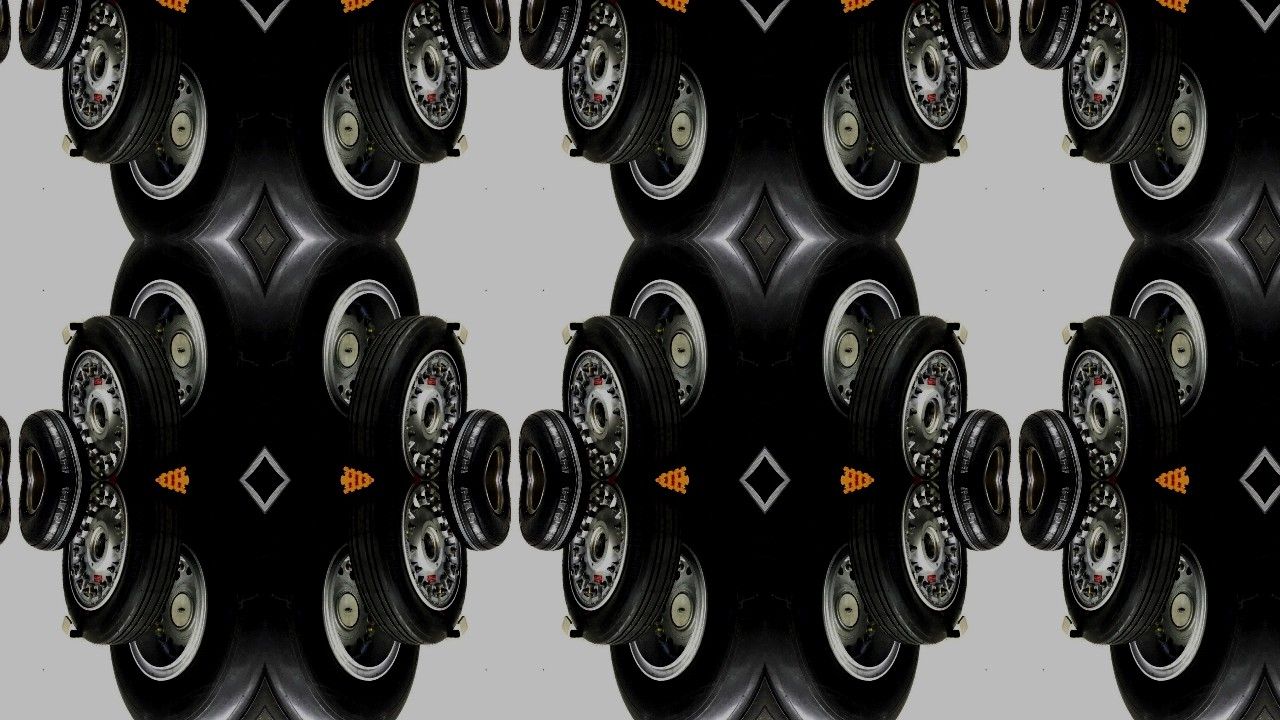chock: (224, 480, 265, 541), (724, 480, 765, 541), (765, 480, 806, 541), (1225, 480, 1266, 541), (224, 420, 265, 480), (724, 420, 765, 480), (765, 420, 806, 480), (1225, 420, 1266, 480), (265, 480, 305, 541), (224, 0, 265, 59), (724, 0, 765, 59), (765, 0, 806, 59), (1225, 0, 1266, 59), (265, 420, 305, 480), (265, 0, 305, 59), (128, 465, 208, 480), (321, 465, 401, 480), (628, 465, 708, 480), (822, 465, 902, 480), (1129, 465, 1209, 480), (128, 480, 208, 495), (321, 480, 401, 495), (628, 480, 708, 495), (822, 480, 902, 495), (1129, 480, 1209, 495), (128, 0, 208, 14), (321, 0, 401, 14), (628, 0, 708, 14), (822, 0, 902, 14), (1129, 0, 1209, 14), (1266, 480, 1280, 541), (1266, 420, 1280, 480), (1266, 0, 1280, 59)
wheel: (264, 239, 429, 480), (1101, 239, 1266, 480), (264, 480, 429, 720), (1101, 480, 1266, 720), (100, 239, 264, 480), (601, 239, 765, 480), (765, 239, 929, 480), (264, 0, 429, 239), (1101, 0, 1266, 239), (100, 480, 264, 720), (601, 480, 765, 720), (765, 480, 929, 720), (100, 0, 264, 239), (601, 0, 765, 239), (765, 0, 929, 239), (556, 480, 686, 649), (844, 480, 974, 649), (556, 312, 686, 480), (844, 312, 974, 480), (56, 480, 185, 649), (344, 480, 473, 649), (1057, 480, 1186, 649), (556, 0, 686, 167), (844, 0, 974, 167), (56, 312, 185, 480), (344, 312, 473, 480), (1057, 312, 1186, 480), (56, 0, 185, 167), (344, 0, 473, 167), (1057, 0, 1186, 167), (14, 480, 96, 554), (433, 480, 515, 554), (1015, 480, 1097, 554), (515, 480, 596, 554), (934, 480, 1015, 554), (14, 407, 96, 480), (433, 407, 515, 480), (1015, 407, 1097, 480), (515, 407, 596, 480), (934, 407, 1015, 480), (14, 0, 96, 72), (433, 0, 515, 72), (1015, 0, 1097, 72), (515, 0, 596, 72), (934, 0, 1015, 72), (1266, 239, 1280, 480), (1266, 480, 1280, 720), (1266, 0, 1280, 239), (0, 480, 14, 554), (0, 407, 14, 480), (0, 0, 14, 72)
